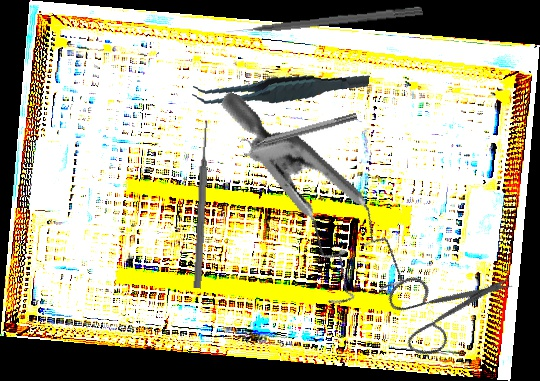Fixation Ring: (239, 107, 360, 158)
Iris Scissors: (370, 228, 517, 378)
Pusher: (224, 4, 424, 37), (192, 120, 212, 289)
Speculum: (168, 90, 445, 325)
Tissue Forceps: (191, 51, 370, 126)
